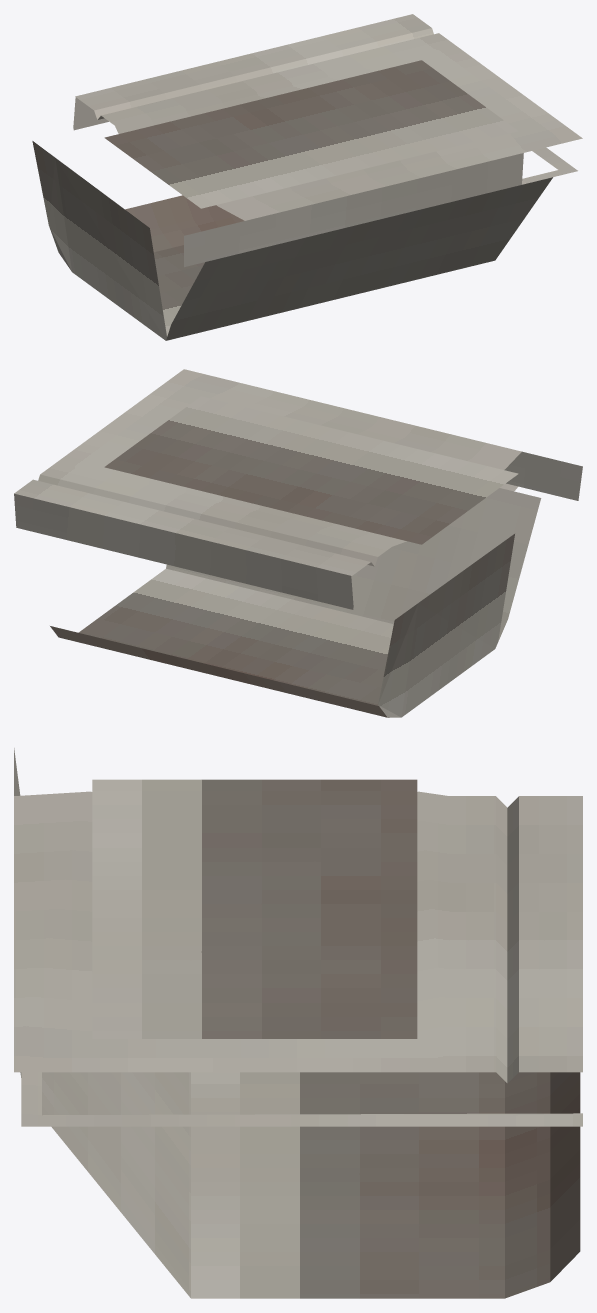
3 views of the same model, one above another, from view 1: azimuth 30°, elevation 25°; view 2: azimuth 150°, elevation 25°; view 3: azimuth 270°, elevation 25° (orthographic). The views are drawn at different scales.
Size of the model in its own units: 0.9822 by 0.3583 by 0.725.
